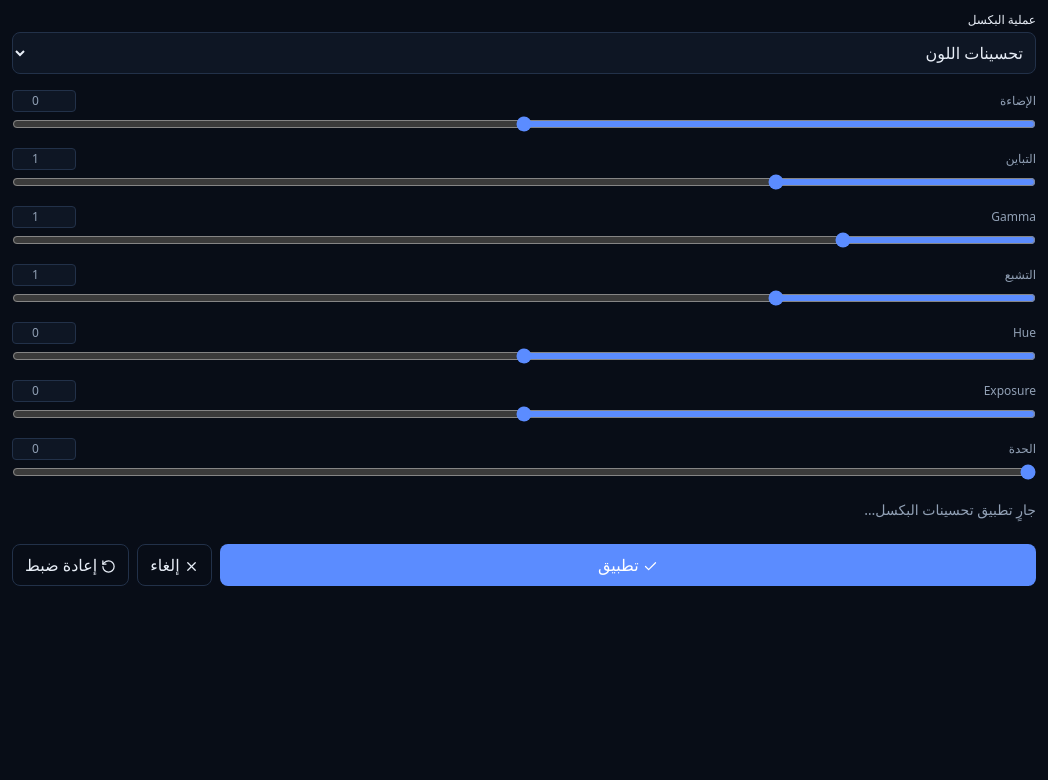
Test: renders pixel operation error
This screenshot has width=1048, height=780.
Click the button "تطبيق": [628, 565] box [220, 544, 1036, 586]
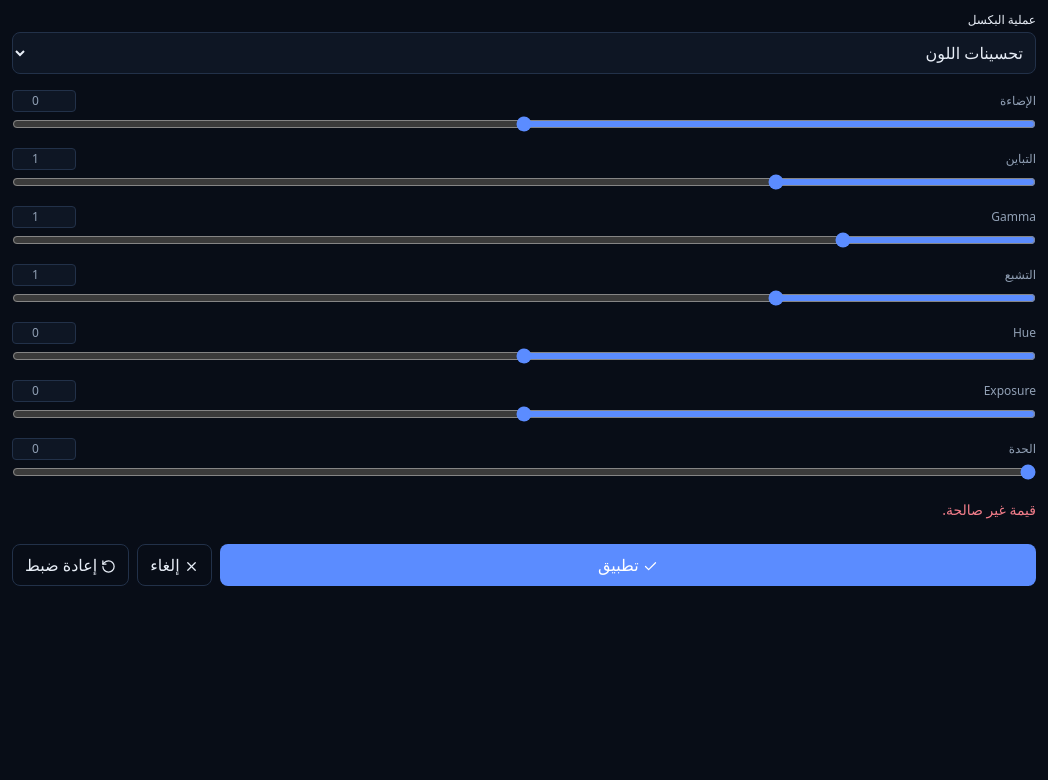
Check: the message reads "قيمة غير صالحة.", box [942, 500, 1036, 519]
